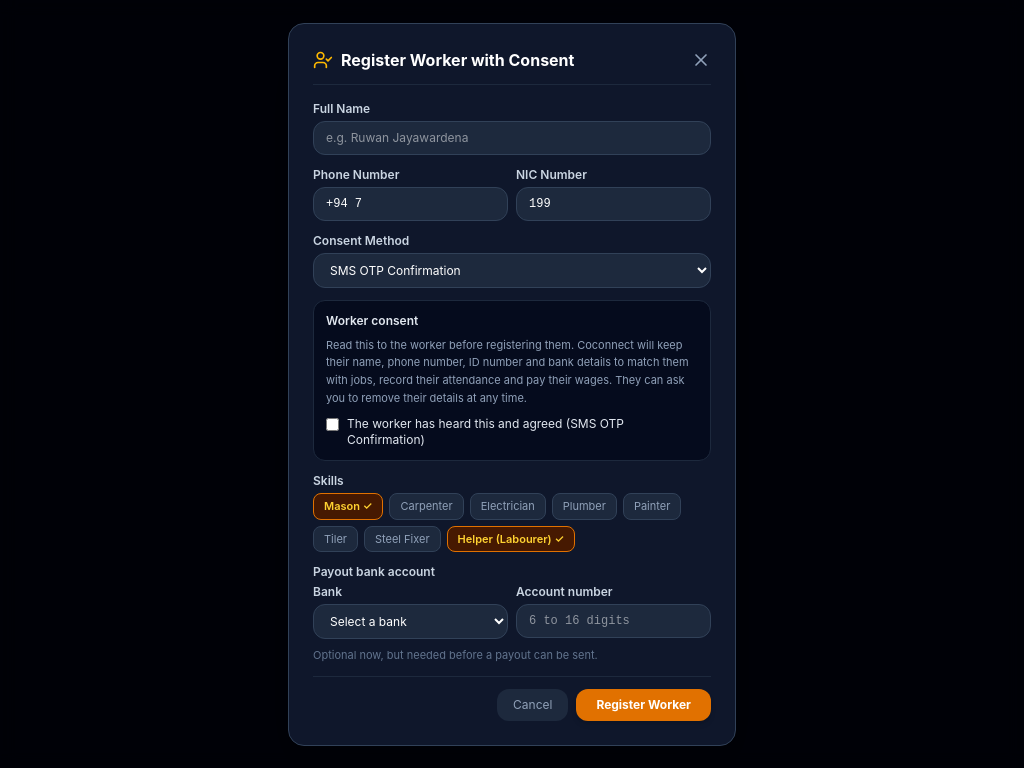
Test case: AddWorkerModal consent and bank details › needs a bank when an account number is typed
The image size is (1024, 768).
Type "Nuwan Perera" into the field with placeholder "e.g. Ruwan Jayawardena" at (512,138), box [313,120,711,154]
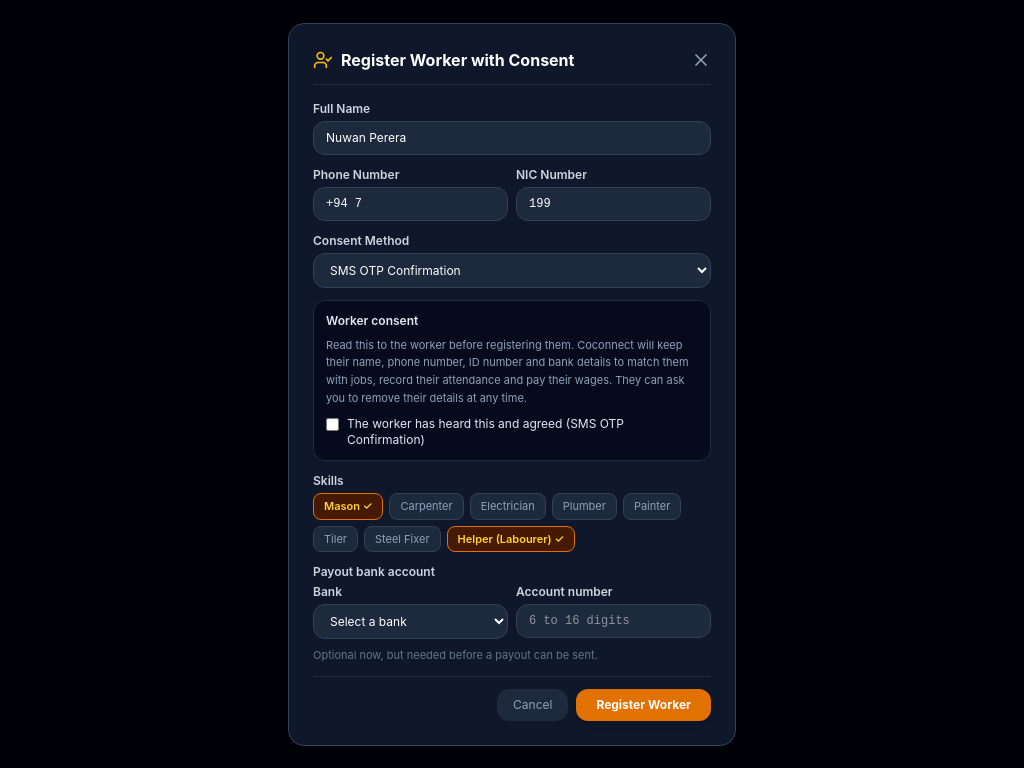
Click the checkbox with test id "consent-confirm" at (332,424), box [326,418,339,431]
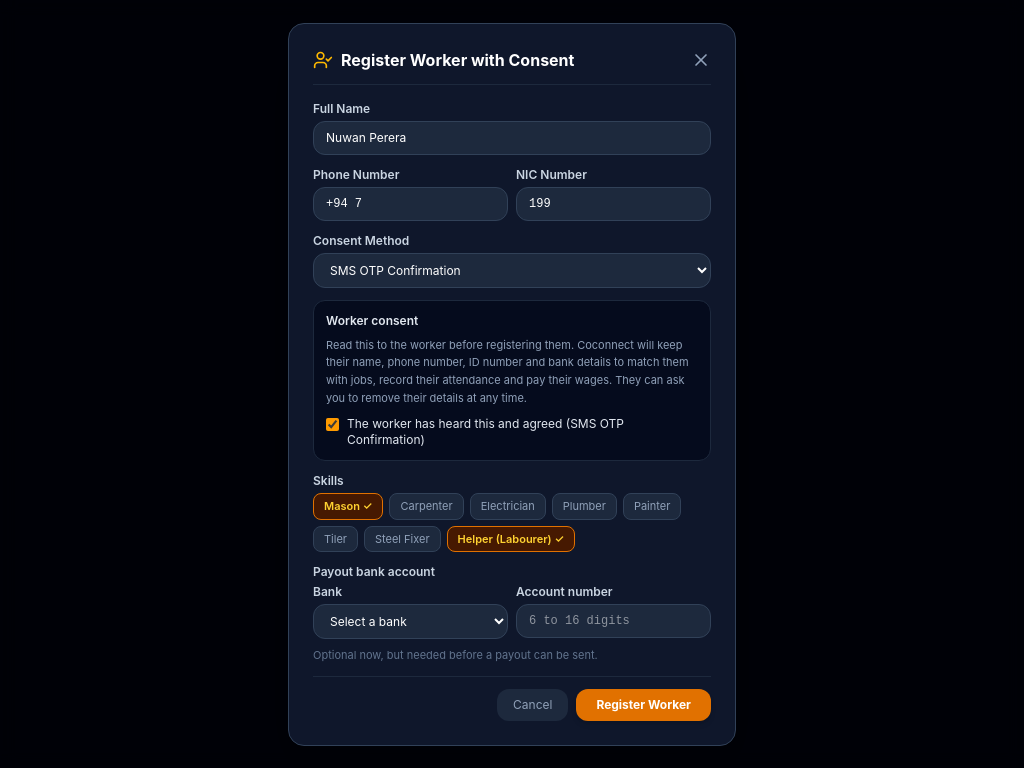
Type "77889922" into the field with test id "bank-account" at (614,621), box [516,604,711,638]
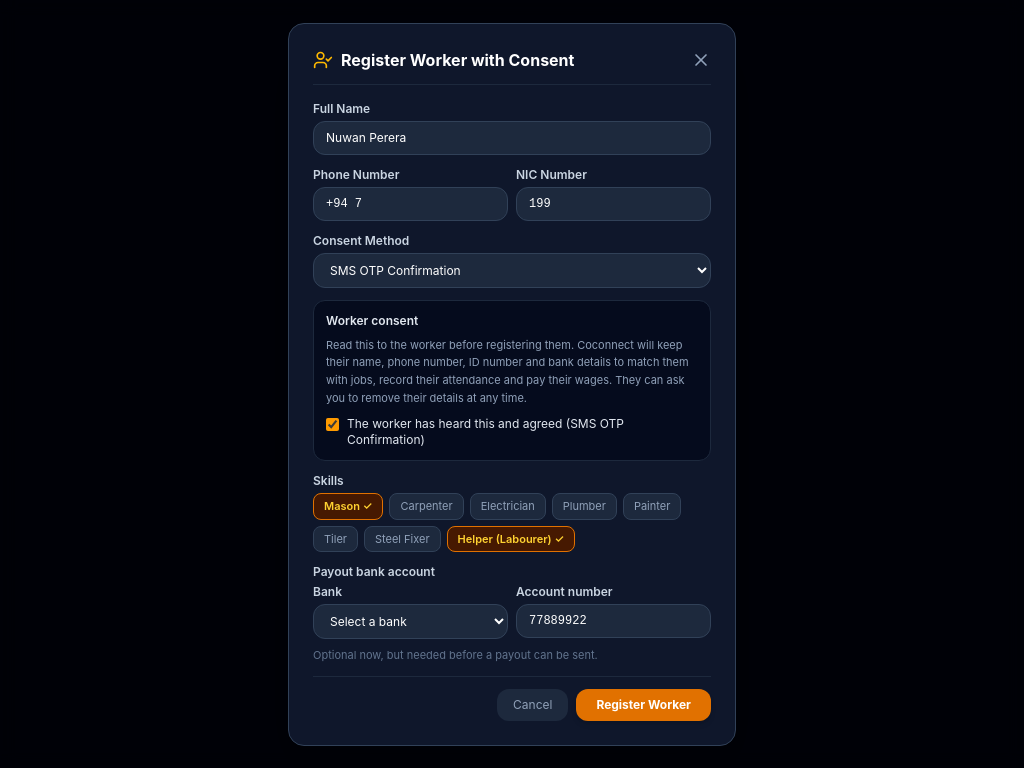
Click the submit button at (644,704), box [576,688,711,720]
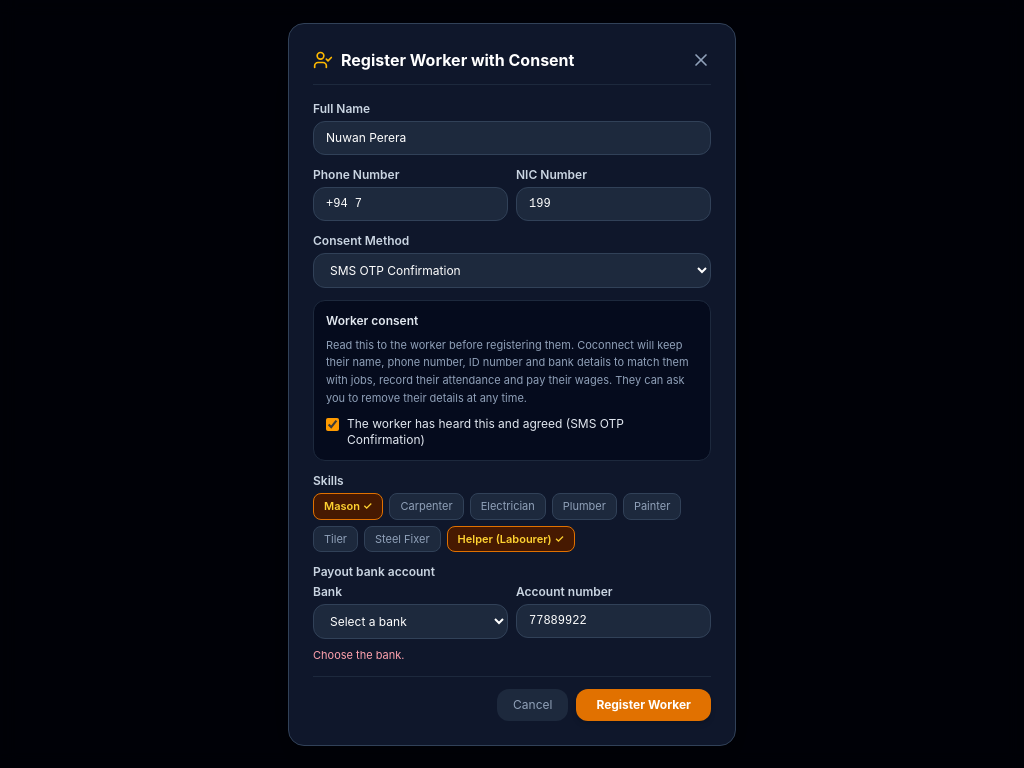
Check: the text "Choose the bank." is shown, box [313,648,404,662]
